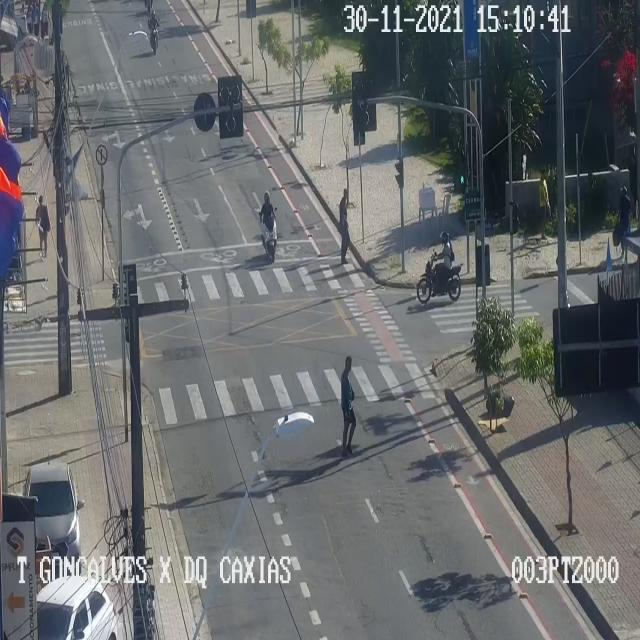Car: (24, 463, 80, 573), (36, 576, 116, 639)
Motorcycle: (417, 230, 461, 302), (259, 190, 277, 262), (148, 10, 160, 54)
